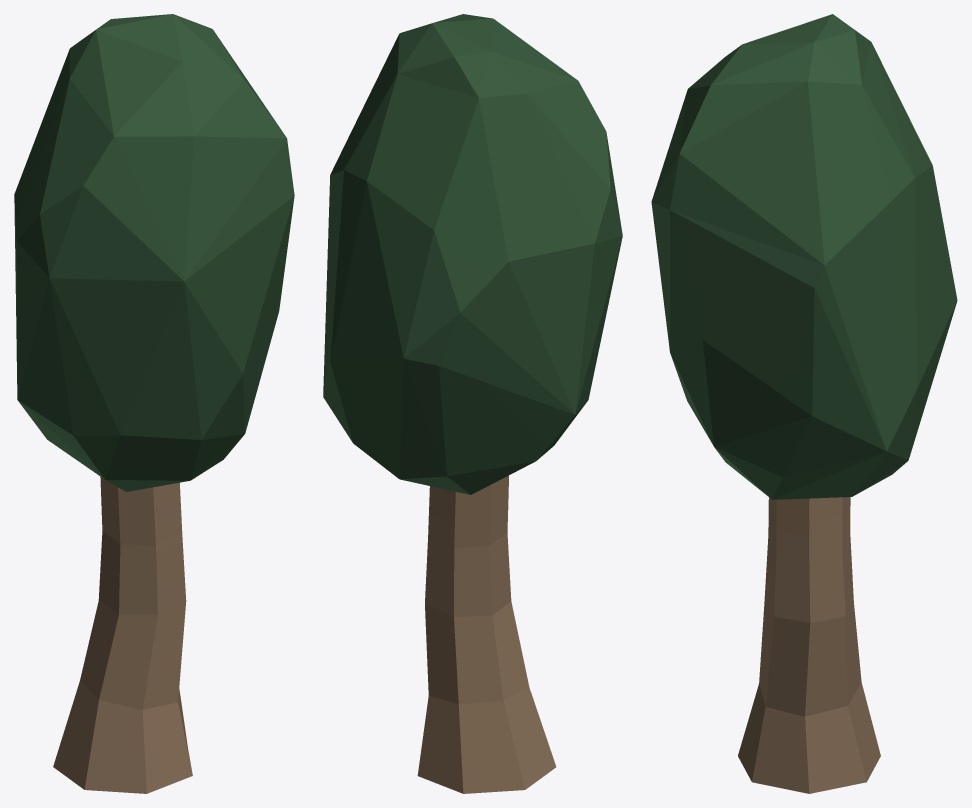
File: Tree1.glb
The picture shows the model from 3 angles, left to right: view 1: azimuth 30°, elevation 25°; view 2: azimuth 150°, elevation 25°; view 3: azimuth 270°, elevation 25°; orthographic projection.
Parts seen in each view (by area): view 1: Tree_5; view 2: Tree_5; view 3: Tree_5.
Boxes of the visible parts, x1,y1,x2,y2 form: Tree_5: (14,14,294,793); Tree_5: (323,14,622,793); Tree_5: (651,14,957,793).
Size of the model in its own units: 1.19 by 3.23 by 1.2.
1 material, 1 textured.
